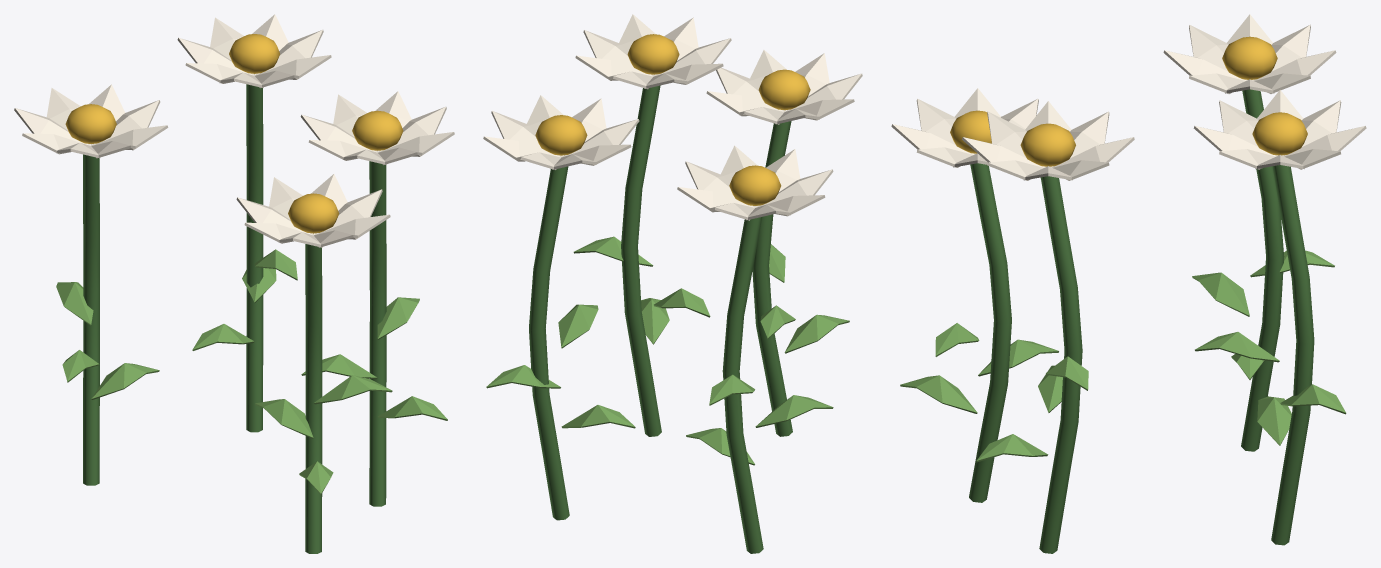
Rendered from flower.daisy.glb.
The picture shows the model from 3 angles, left to right: view 1: azimuth 30°, elevation 25°; view 2: azimuth 150°, elevation 25°; view 3: azimuth 270°, elevation 25°; orthographic projection. The views are drawn at different scales.
Visible parts, largest first — view 1: Living stem; view 2: Living stem; view 3: Living stem.
Part boxes in pixels (x1,y1,x2,y2): Living stem: (14,14,454,553); Living stem: (483,14,862,553); Living stem: (891,14,1366,553).
Size of the model in its own units: 0.4115 by 0.467 by 0.4715.
